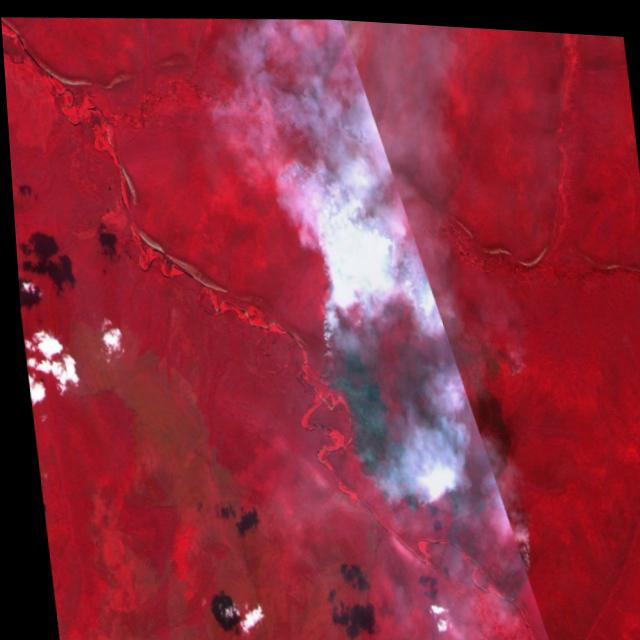fire: (296, 180, 409, 362), (395, 447, 441, 515), (492, 508, 528, 569)
